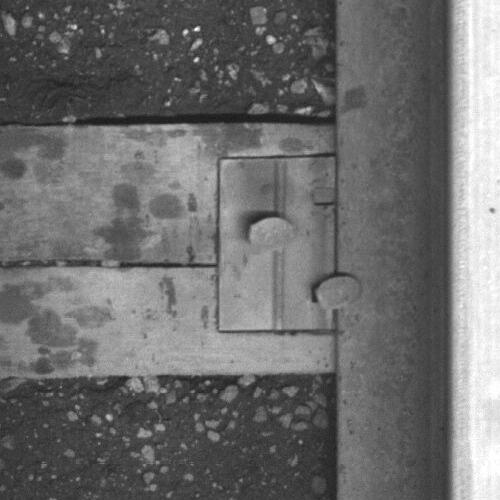do: (215, 156, 362, 329)
rail: (447, 1, 500, 500)
tie_wood: (1, 124, 335, 377)
wood_crack: (1, 253, 221, 274)
